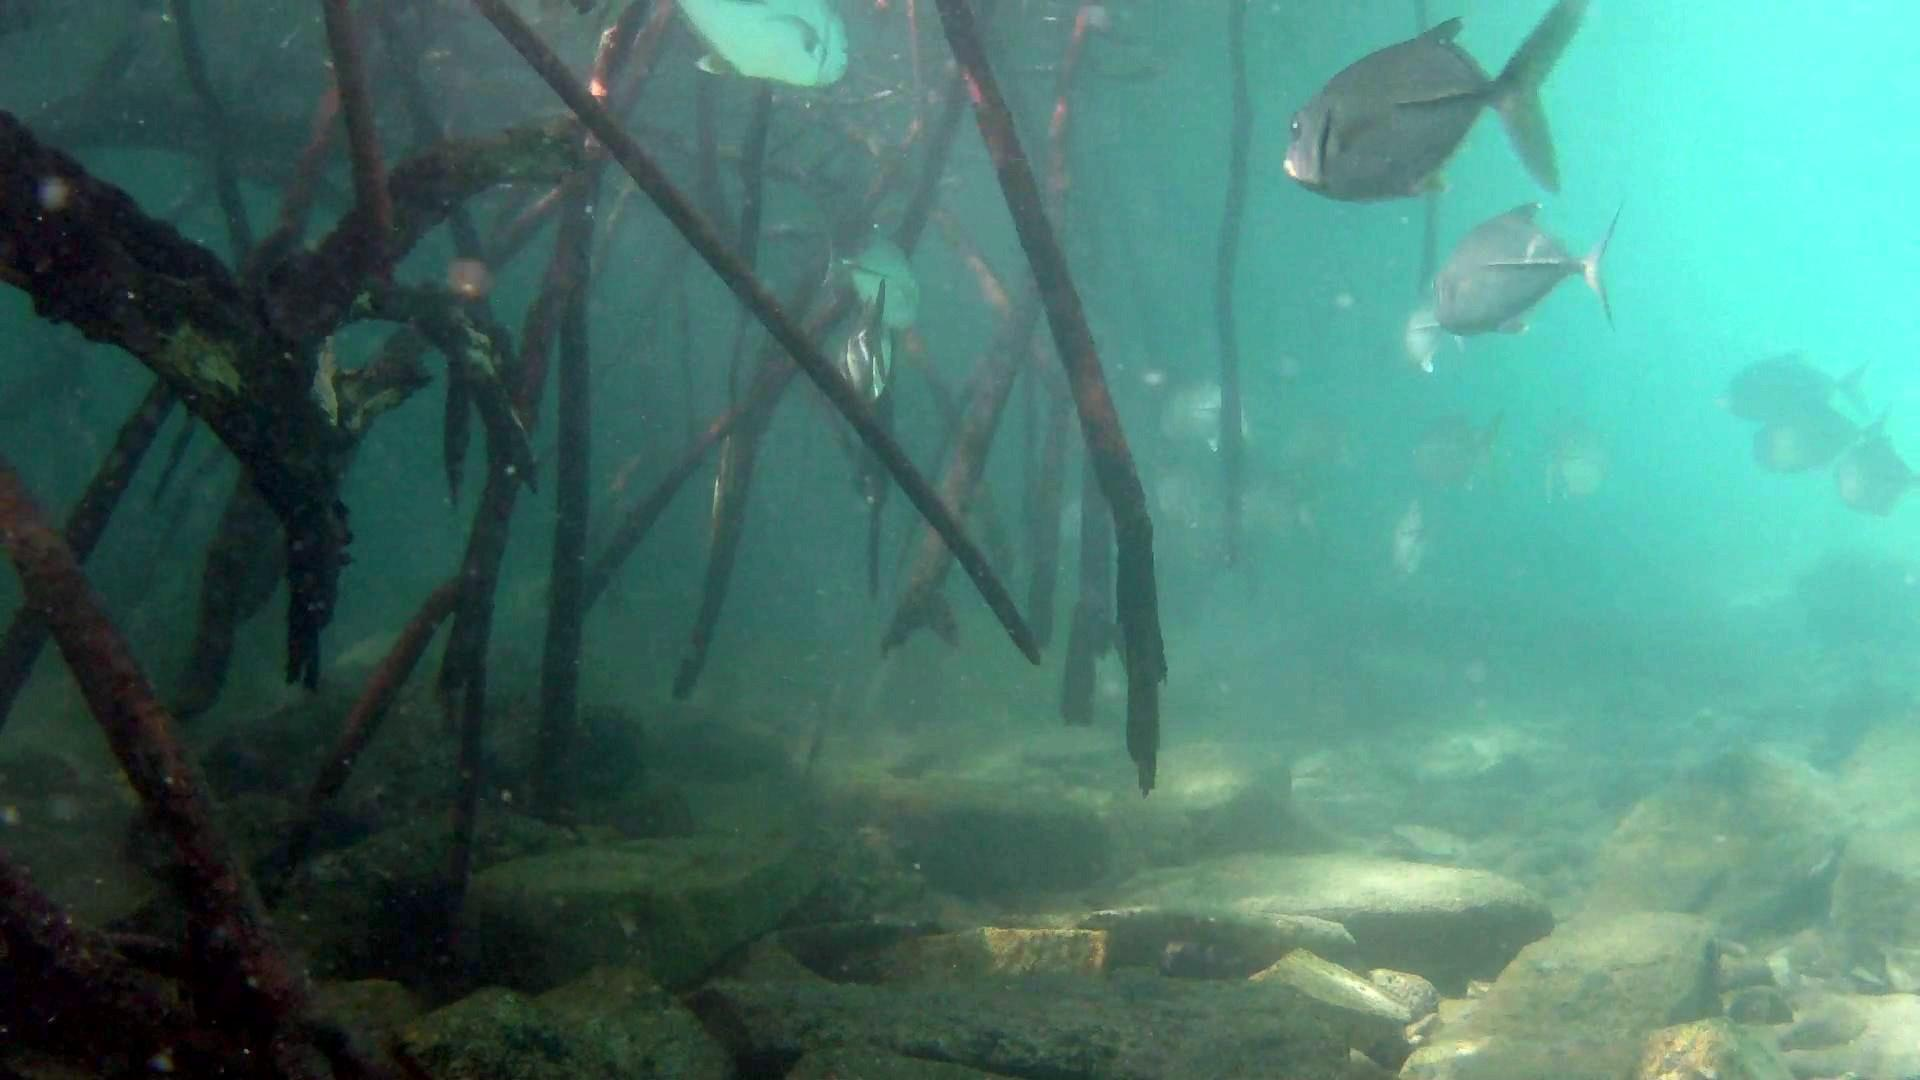caranx: (1273, 0, 1598, 207), (1424, 195, 1631, 343), (663, 0, 858, 94)
